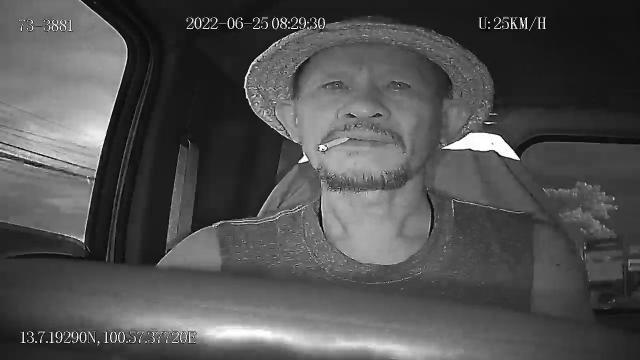SafeDriving: (378, 68, 418, 99), (314, 69, 354, 98)
Smoking: (316, 135, 352, 153)
